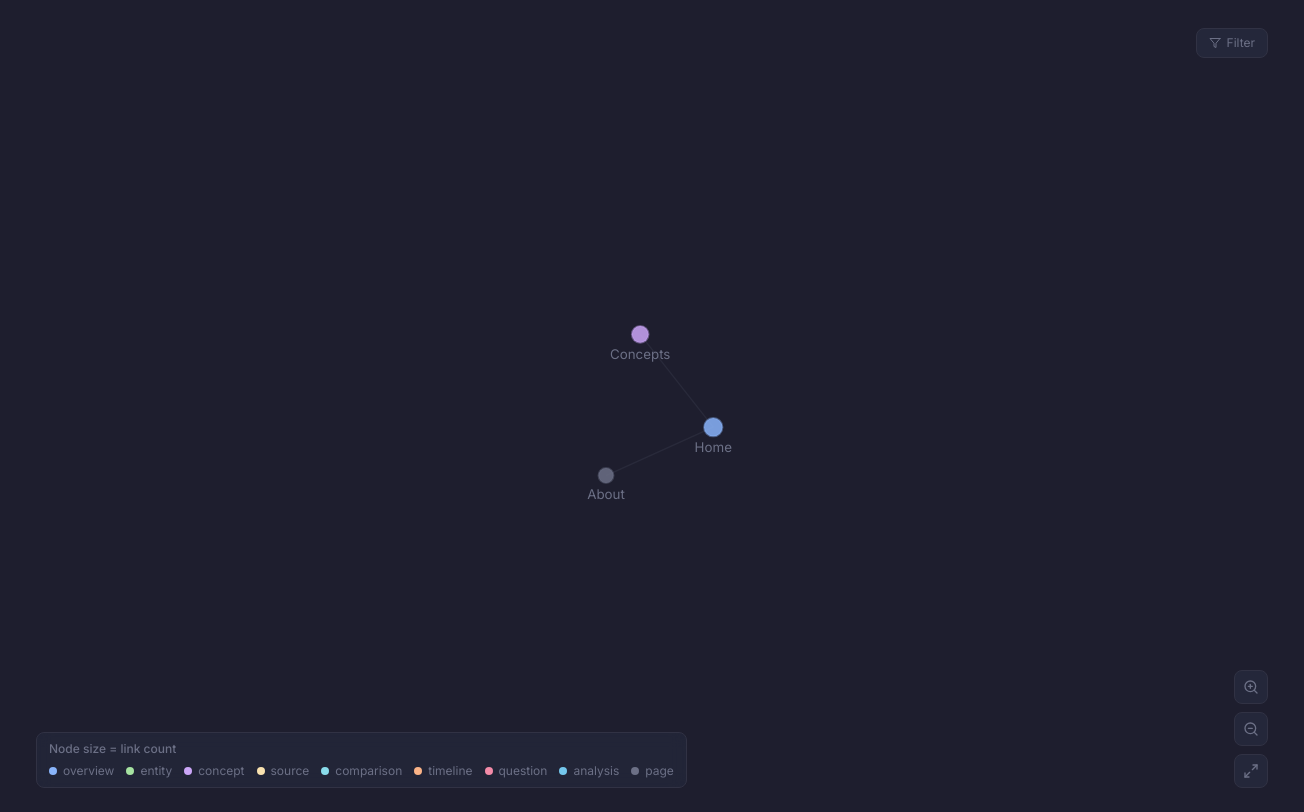
it: GraphView › opens and closes the filter panel
Click the button "Filter" at (1232, 43), box [1196, 28, 1268, 58]
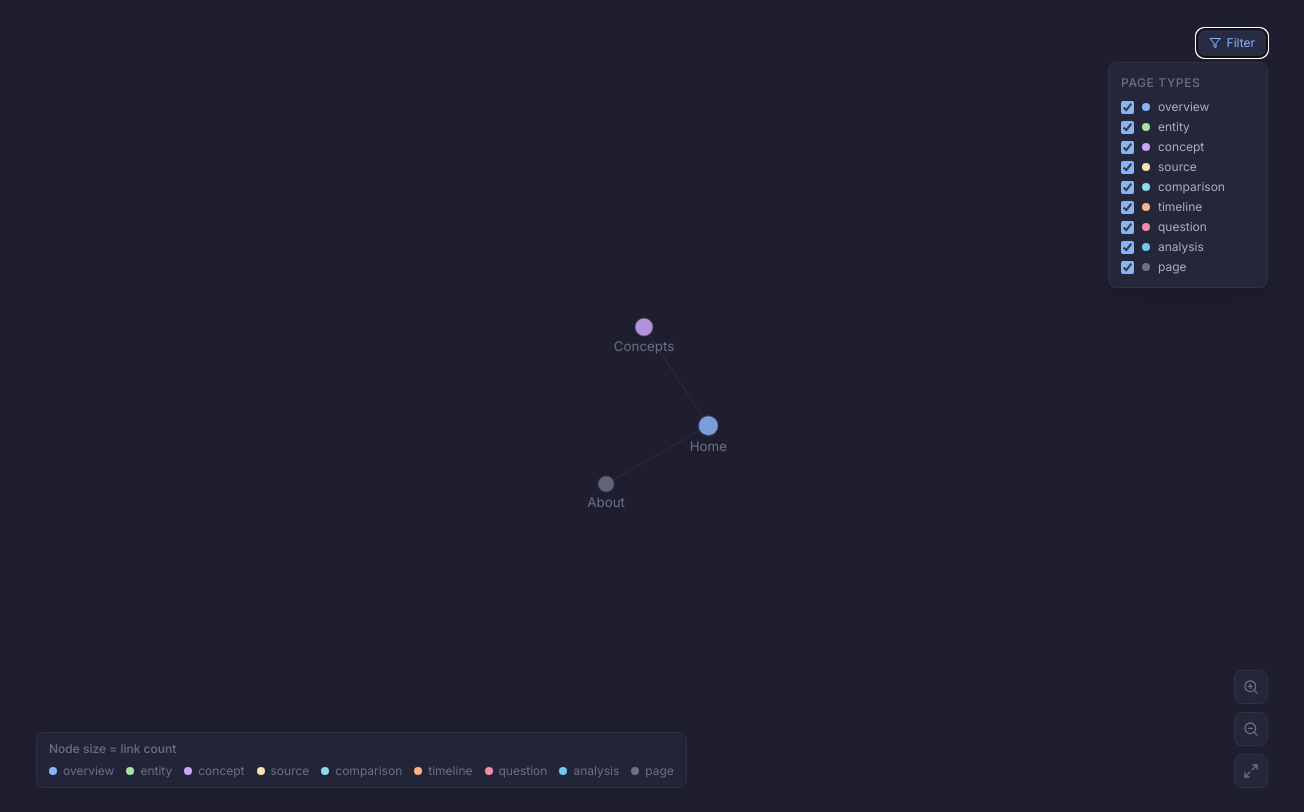
Result: the text "Page types" is shown at [1121, 75, 1200, 90]
Click the button "Filter" at (1232, 43), box [1196, 28, 1268, 58]
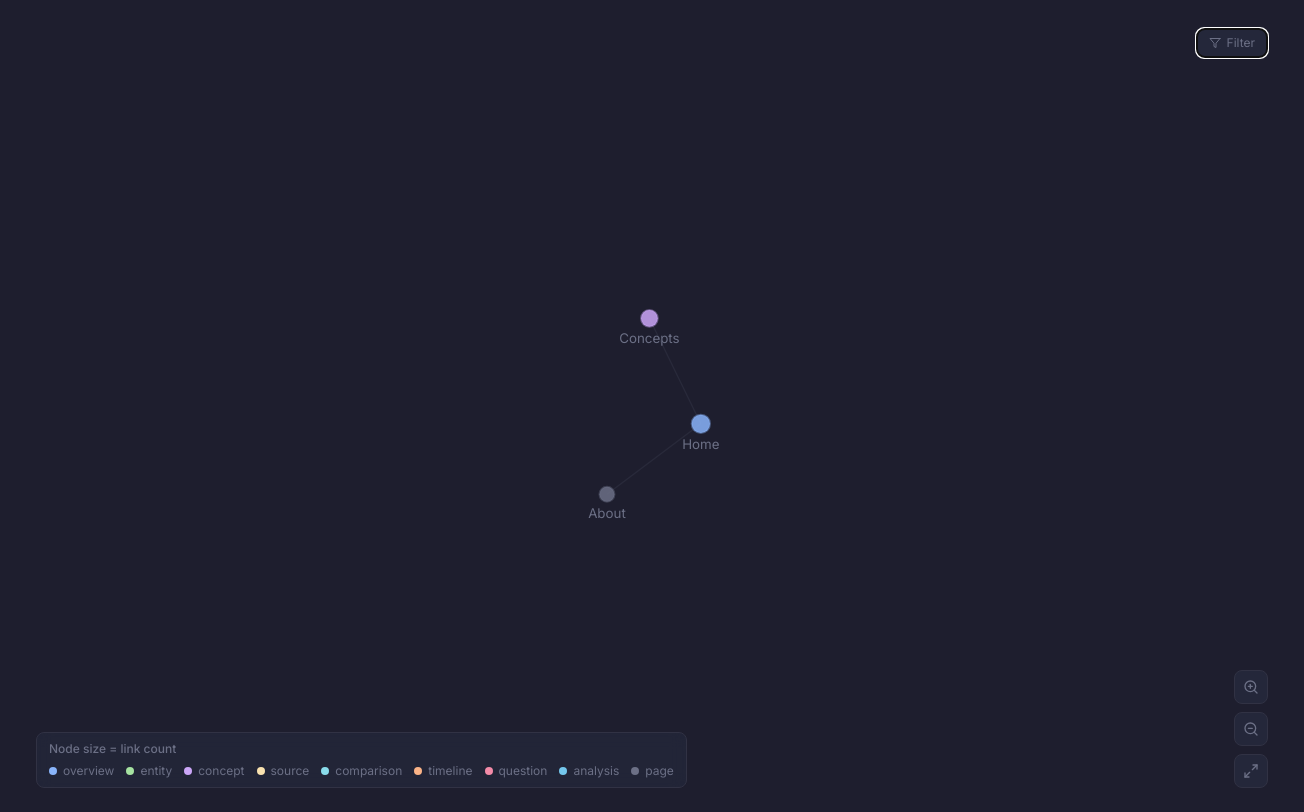
Result: the text "Page types" is gone
